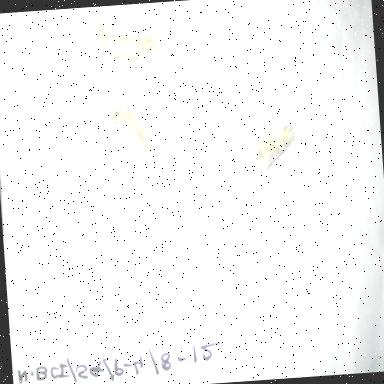abw: (90, 14, 168, 70), (108, 98, 163, 176), (244, 120, 300, 175)
